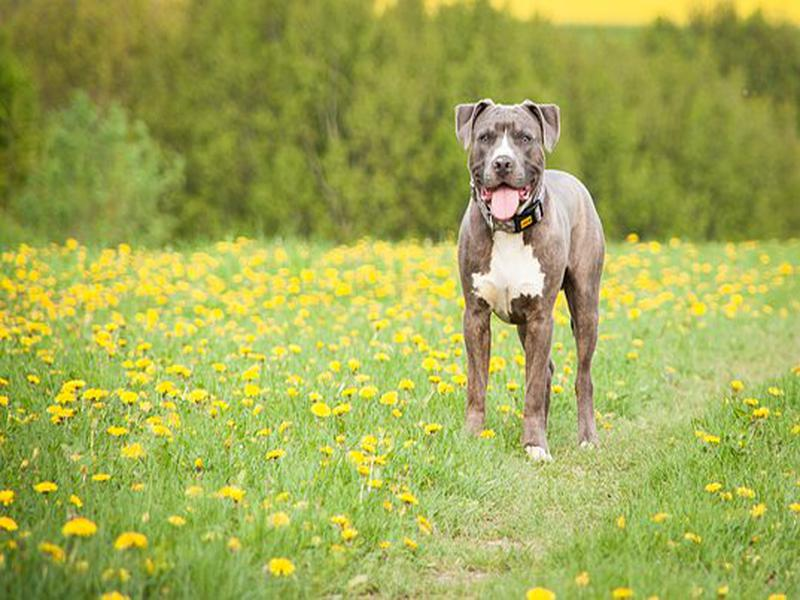dog_stand: (451, 96, 612, 470)
